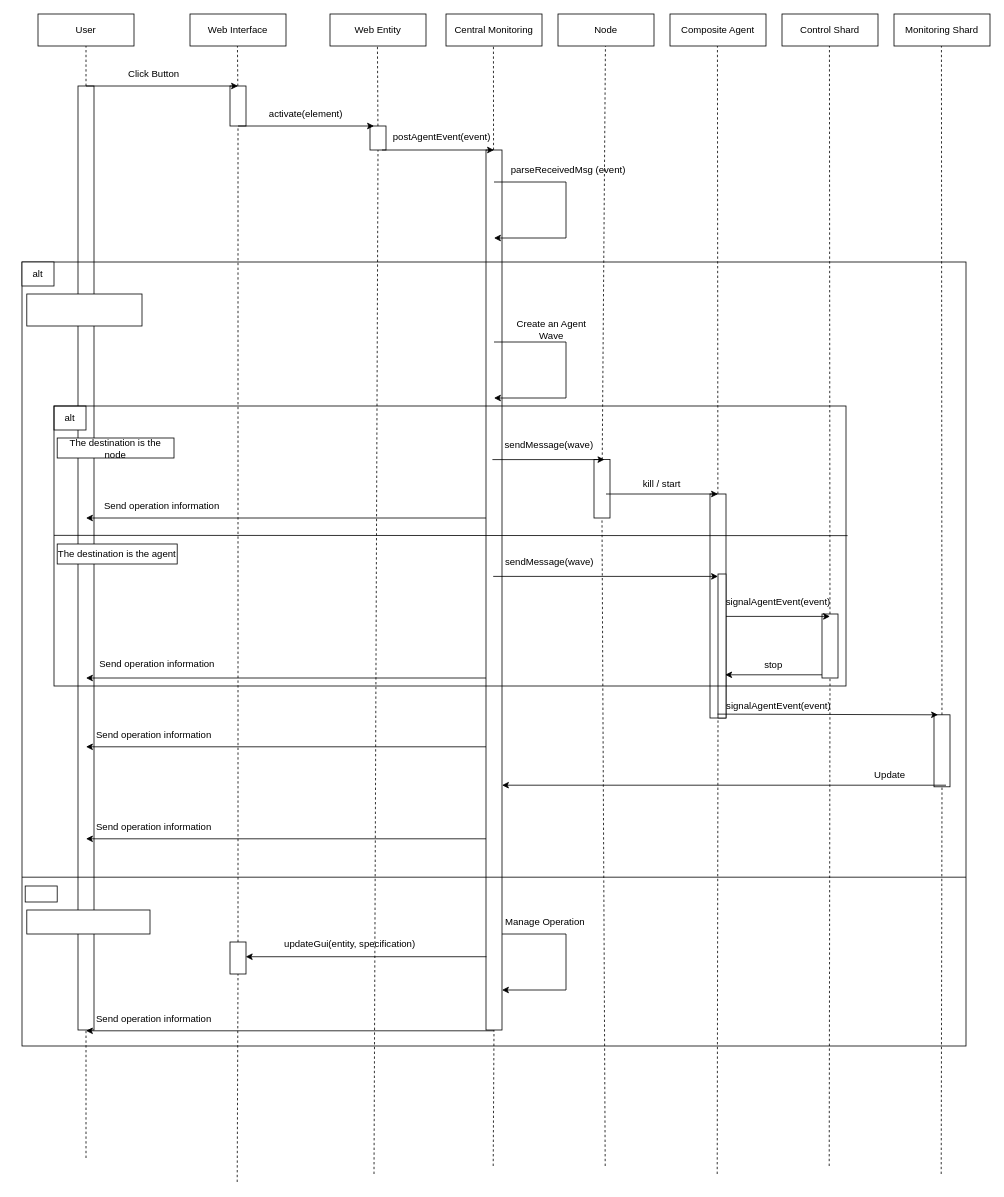
Image size: 1004x1197. Some labels were removed from this diagram. Each missing label, with the centre of its shape:
"Else" goes at point 40,893.
"The message's final destination is an entity" goes at point 84,309.
"Update the interface specification or the status" goes at point 88,921.
